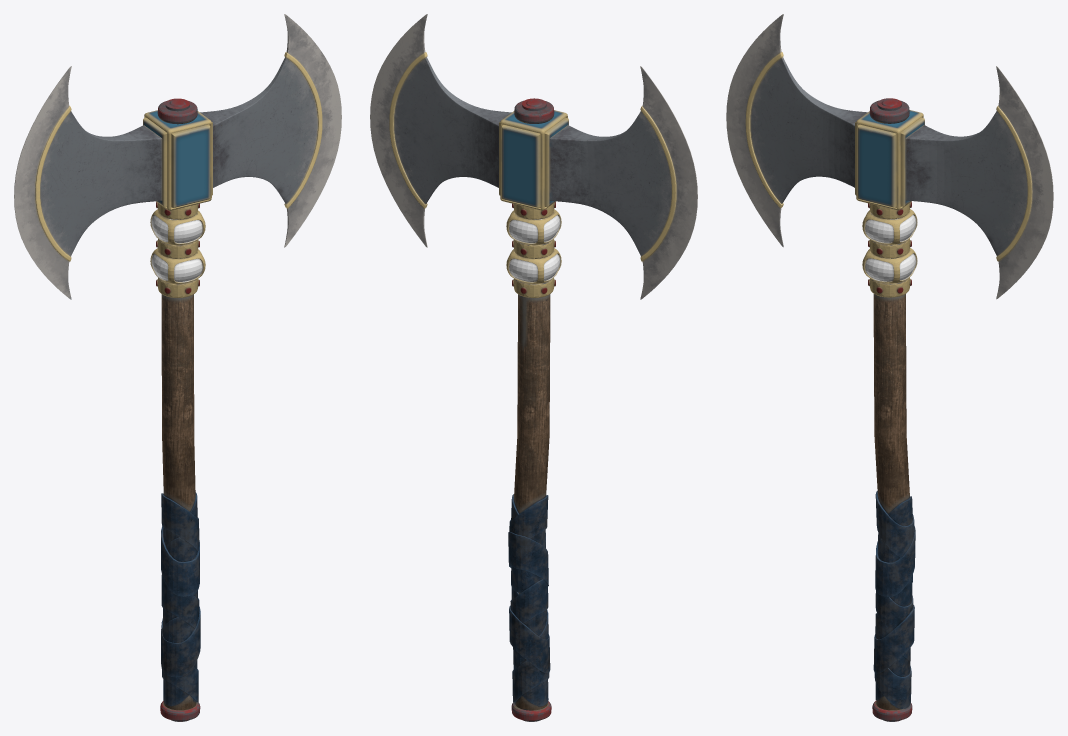
Rendered from Battle Axe.fbx.
3 renders of one model, left to right at view 1: azimuth 30°, elevation 25°; view 2: azimuth 150°, elevation 25°; view 3: azimuth 330°, elevation 25°, orthographic.
Visible parts, largest first — view 1: TWS_Battle_Axe_MultiMap.Shape; view 2: TWS_Battle_Axe_MultiMap.Shape; view 3: TWS_Battle_Axe_MultiMap.Shape.
Boxes of the visible parts, x1=… form: TWS_Battle_Axe_MultiMap.Shape: x1=14, y1=14, x2=341, y2=721; TWS_Battle_Axe_MultiMap.Shape: x1=370, y1=14, x2=697, y2=721; TWS_Battle_Axe_MultiMap.Shape: x1=726, y1=14, x2=1053, y2=721.
Size of the model in its own units: 34.78 by 68.84 by 5.32.
Materials: 13 (13 with a texture image).
